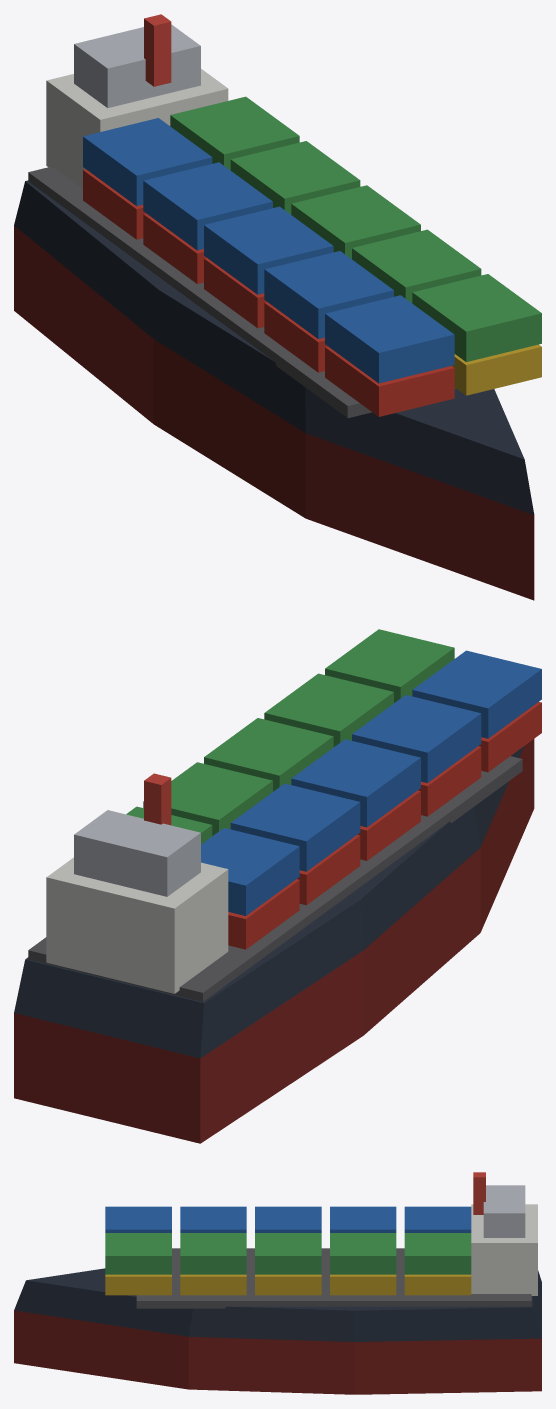
The model's file is cargo_ship.glb.
3 views of the same model, one above another, from view 1: azimuth 30°, elevation 25°; view 2: azimuth 150°, elevation 25°; view 3: azimuth 270°, elevation 25° (orthographic). The views are drawn at different scales.
Visible parts, largest first — view 1: cargo_ship; view 2: cargo_ship; view 3: cargo_ship.
Boxes of the visible parts, x1,y1,x2,y2 form: cargo_ship: [14, 14, 541, 600]; cargo_ship: [14, 629, 541, 1143]; cargo_ship: [14, 1172, 541, 1394].
Bounding box in the file's own units: 0.36 × 0.5 × 1.27.
